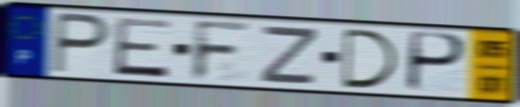D: (340, 26, 402, 90)
E: (110, 15, 174, 80)
F: (189, 18, 255, 83)
P: (403, 30, 469, 95), (49, 10, 113, 77)
Z: (257, 25, 323, 87)
